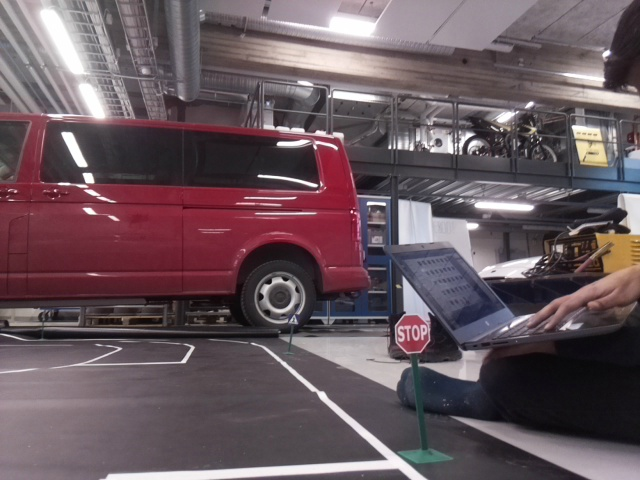Crosswalk: (287, 313, 299, 327)
Stop: (393, 315, 431, 355)
